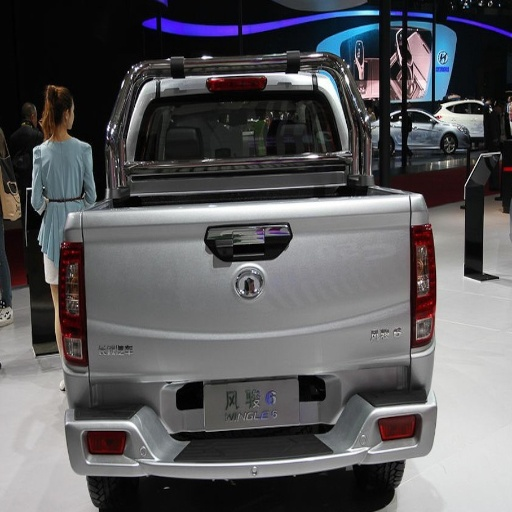back_bumper: (63, 347, 435, 477)
trunk: (87, 177, 403, 396)
